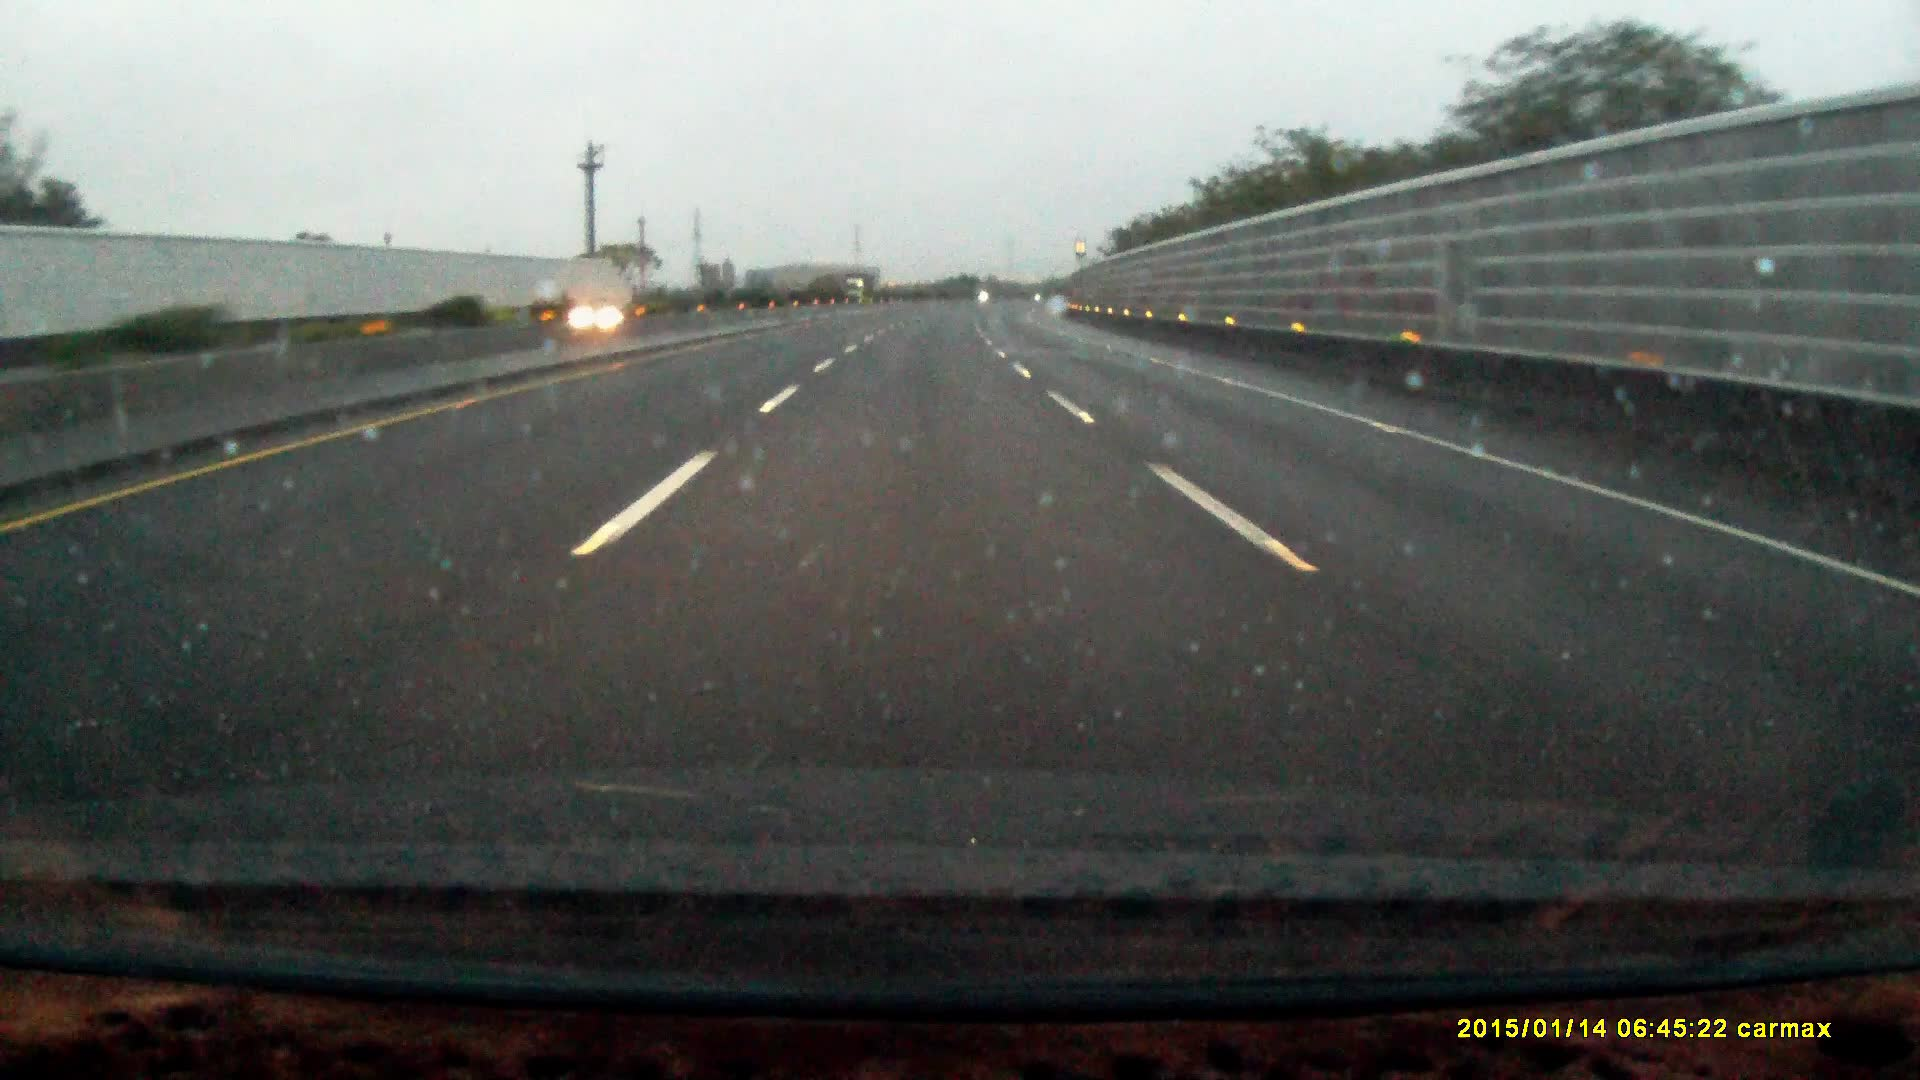vehicle: (568, 297, 646, 340), (844, 276, 878, 305)
